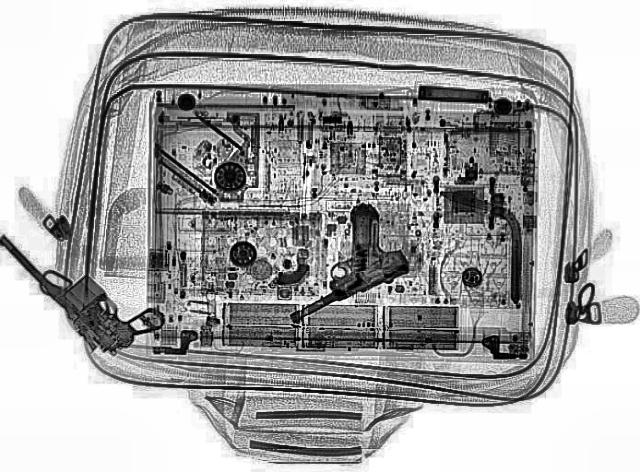Gun: (231, 198, 431, 324), (1, 219, 170, 358)
